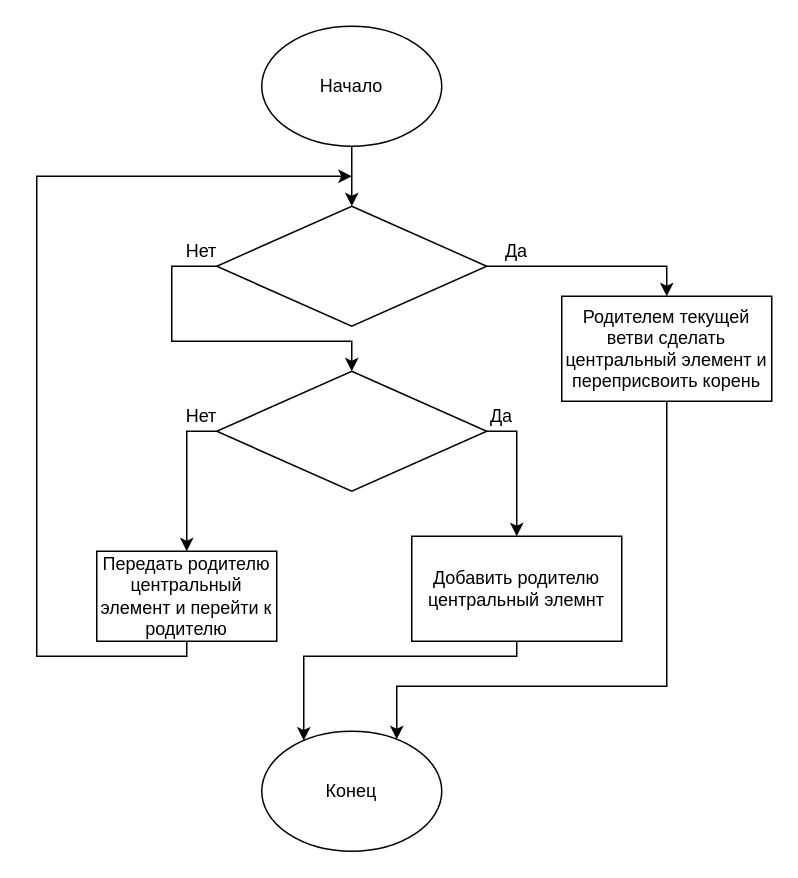
Some shapes in this 798 by 878 pixel diagram are drawn without their labels. The box of each missing label's shape, as (x1, y1, x2, y2) in pixels:
Текущая ветвь является корнем: (215, 205, 487, 326)
У родителя 1 элемент: (215, 370, 487, 491)
